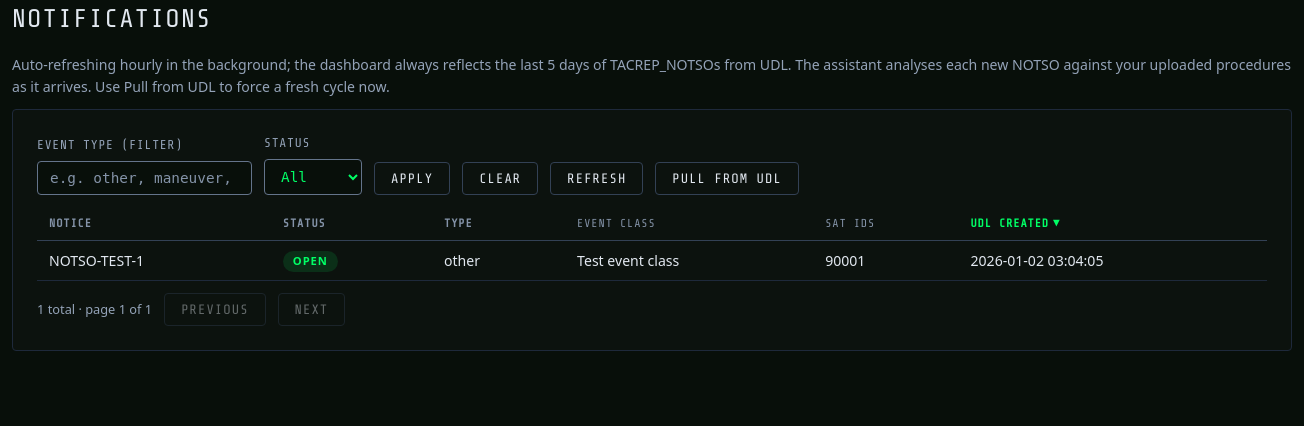
Scenario: the notifications page › says why a pull from UDL failed, or that it failed
Later steps or results of the test are not shown.
Click the button "Pull from UDL": (727, 178) [655,162,799,195]
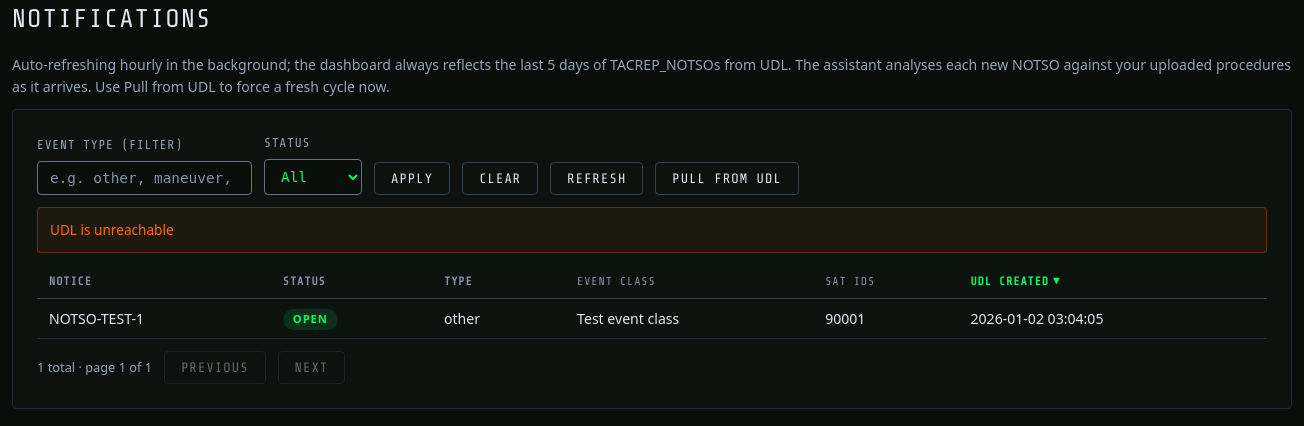
expect the text "UDL is unreachable" is shown: met, box [37,207,1267,253]
Click the button "Pull from UDL": (727, 178) [655,162,799,195]
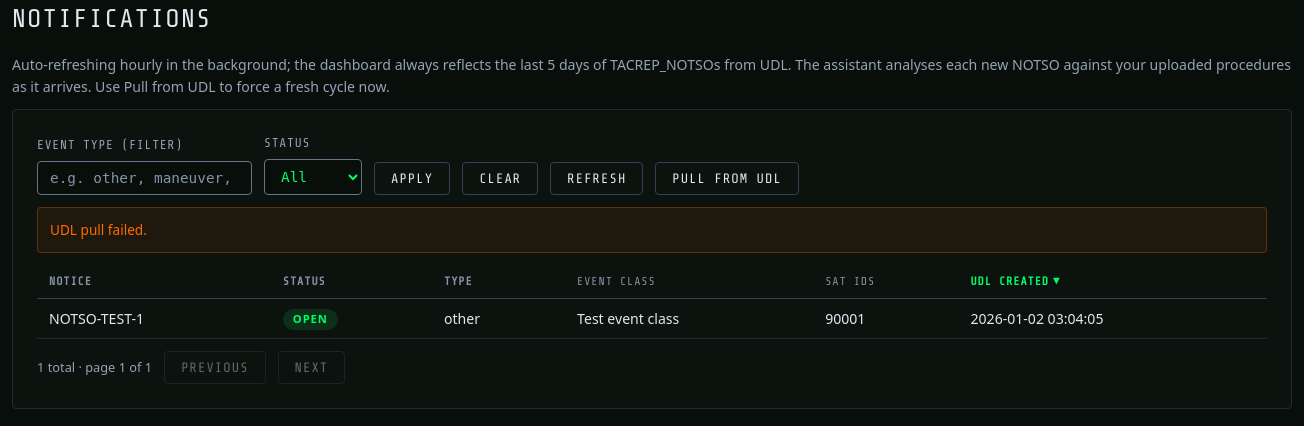
expect the text "UDL pull failed." is shown: met, box [37,207,1267,253]
